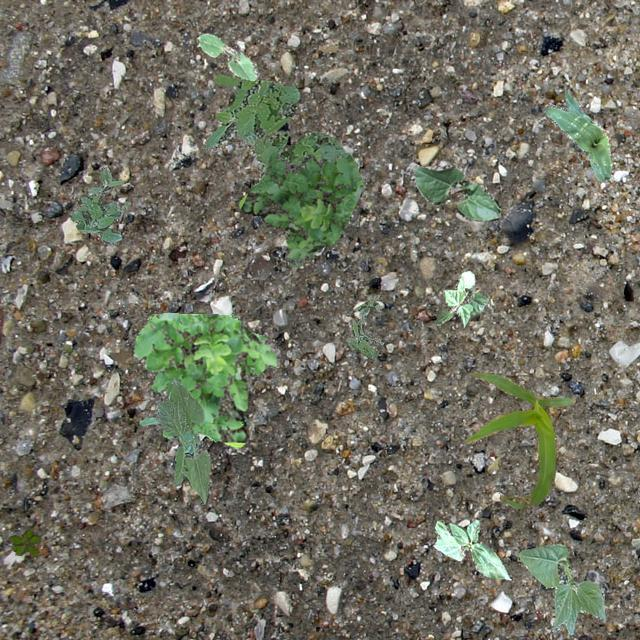crop: (464, 370, 574, 508), (518, 542, 606, 634), (154, 378, 208, 502), (542, 86, 612, 180), (406, 162, 500, 220), (432, 518, 512, 580), (138, 414, 248, 450), (433, 270, 488, 326), (196, 32, 258, 80)
weed: (202, 74, 358, 266), (132, 313, 280, 447), (238, 150, 362, 264), (68, 164, 130, 244), (344, 294, 382, 358), (8, 528, 40, 556)
